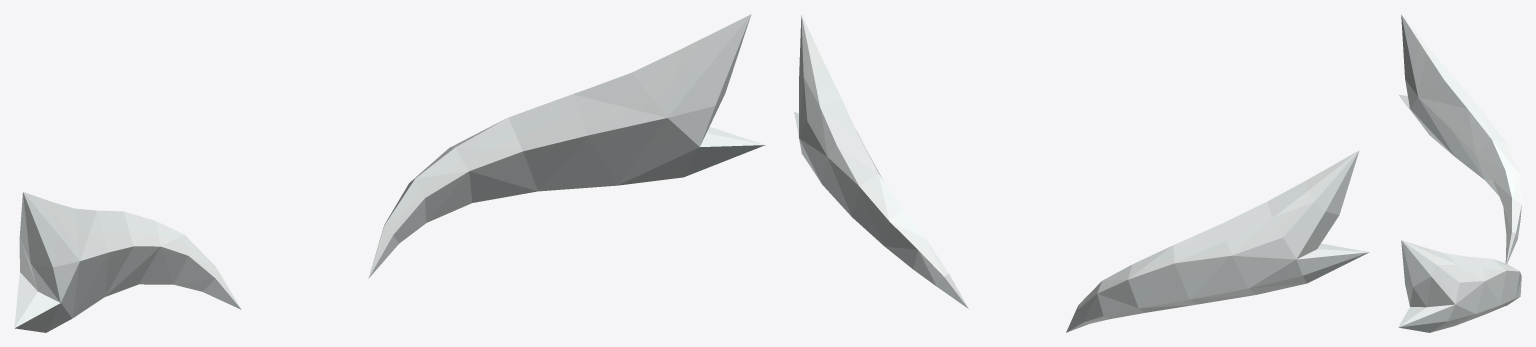
The model's file is CharSkyKid_Mask_AP21Eyebrows.glb.
3 renders of one model, left to right at view 1: azimuth 30°, elevation 25°; view 2: azimuth 150°, elevation 25°; view 3: azimuth 270°, elevation 25°, orthographic. The views are drawn at different scales.
Parts seen in each view (by area): view 1: CharSkyKid_Mask_AP21Eyebrows; view 2: CharSkyKid_Mask_AP21Eyebrows; view 3: CharSkyKid_Mask_AP21Eyebrows.
Boxes of the visible parts, left/top/right/bottom form: CharSkyKid_Mask_AP21Eyebrows: left=14, top=14, right=765, bottom=332; CharSkyKid_Mask_AP21Eyebrows: left=794, top=14, right=1369, bottom=332; CharSkyKid_Mask_AP21Eyebrows: left=1398, top=14, right=1521, bottom=332.
Bounding box in the file's own units: 2.26 × 0.7253 × 0.5078.
1 material, 1 textured.
